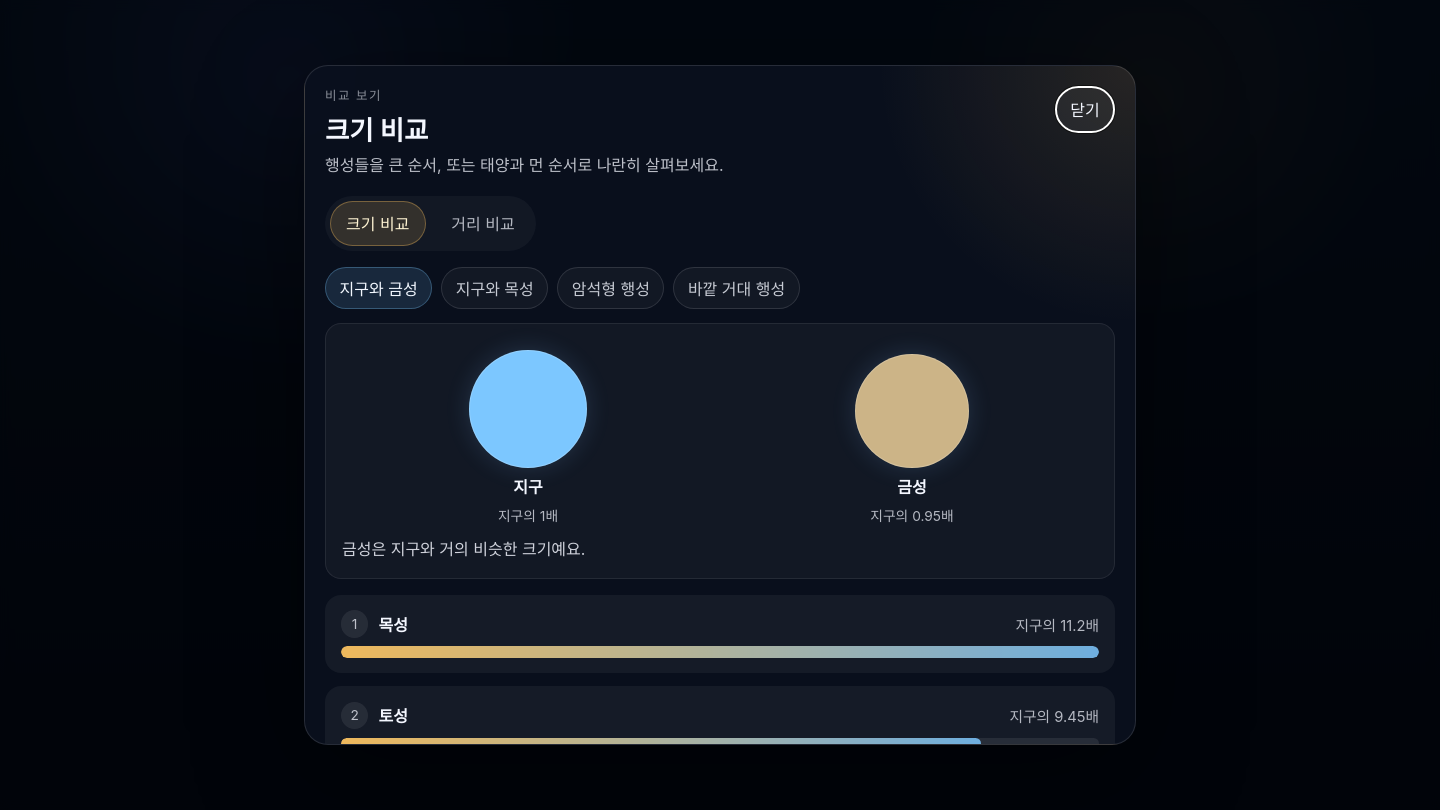
Test case: ComparisonSheet › shows size presets and updates the side-by-side spotlight
Check: the element named "대표 크기 비교" is shown, box [325, 266, 800, 308]
Check: the element named "나란히 크기 비교" shows "금성은 지구와 거의 비슷한 크기예요.", box [342, 539, 585, 559]
Click the button "지구와 목성".
click(495, 288)  # box [441, 266, 548, 308]
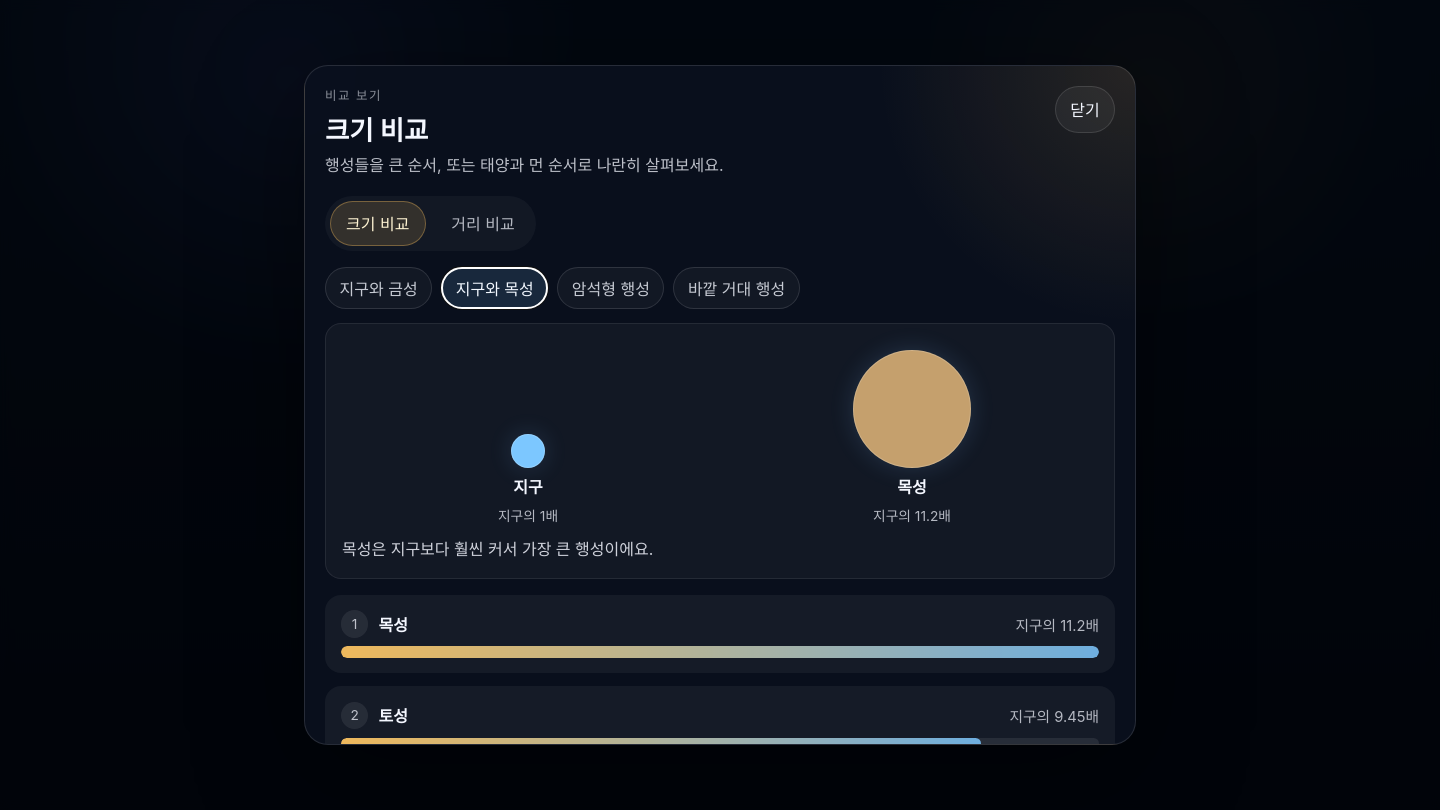
Check: the element named "나란히 크기 비교" shows "목성은 지구보다 훨씬 커서 가장 큰 행성이에요.", box [342, 539, 653, 559]
